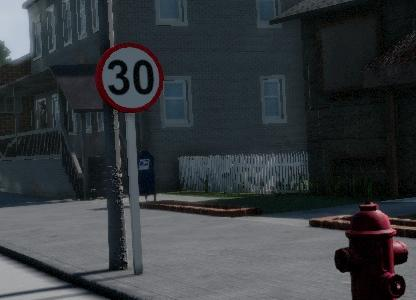Speed_30: (95, 43, 164, 113)
